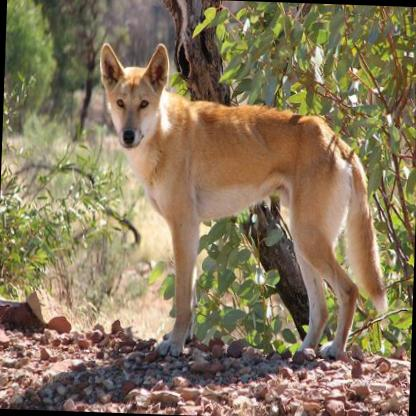dingo: (89, 40, 398, 366)
